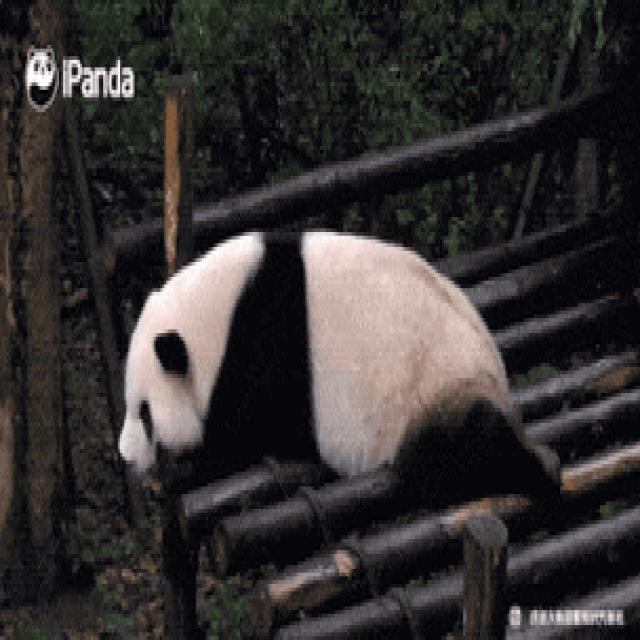panda: (99, 197, 599, 596)
